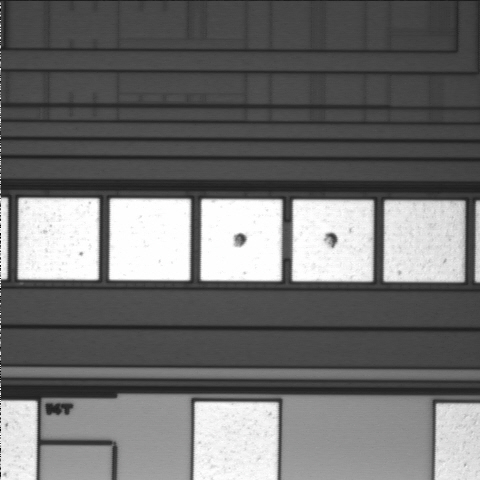pad: (109, 199, 191, 281), (18, 198, 99, 280), (201, 199, 282, 281), (292, 200, 373, 282), (384, 201, 465, 282)
